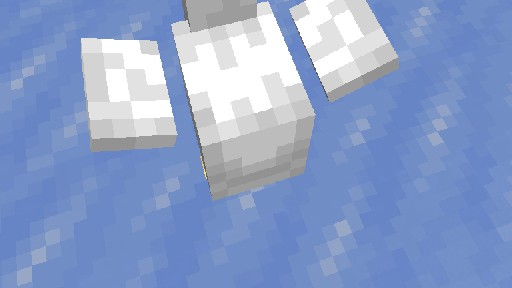chicken: (80, 0, 399, 201)
